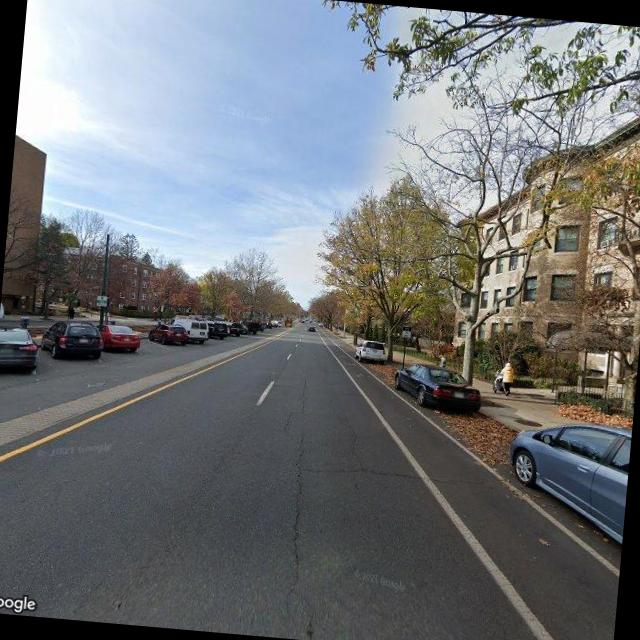crack: (272, 427, 318, 612), (302, 456, 480, 488), (335, 411, 366, 468)
